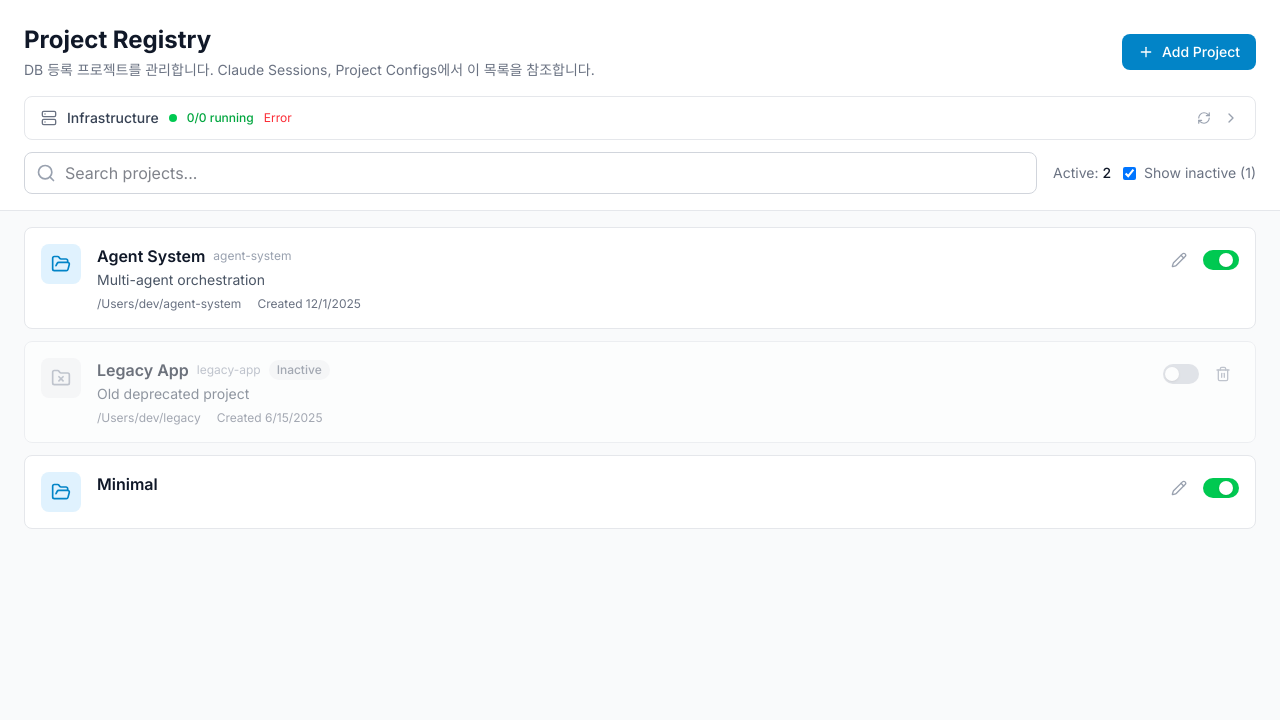
ProjectManagementPage › search filtering › filters by slug
This screenshot has width=1280, height=720.
Step 1. Type "agent-system" into the field with placeholder "Search projects..." → {"x": 531, "y": 173}, box [24,152,1037,194]
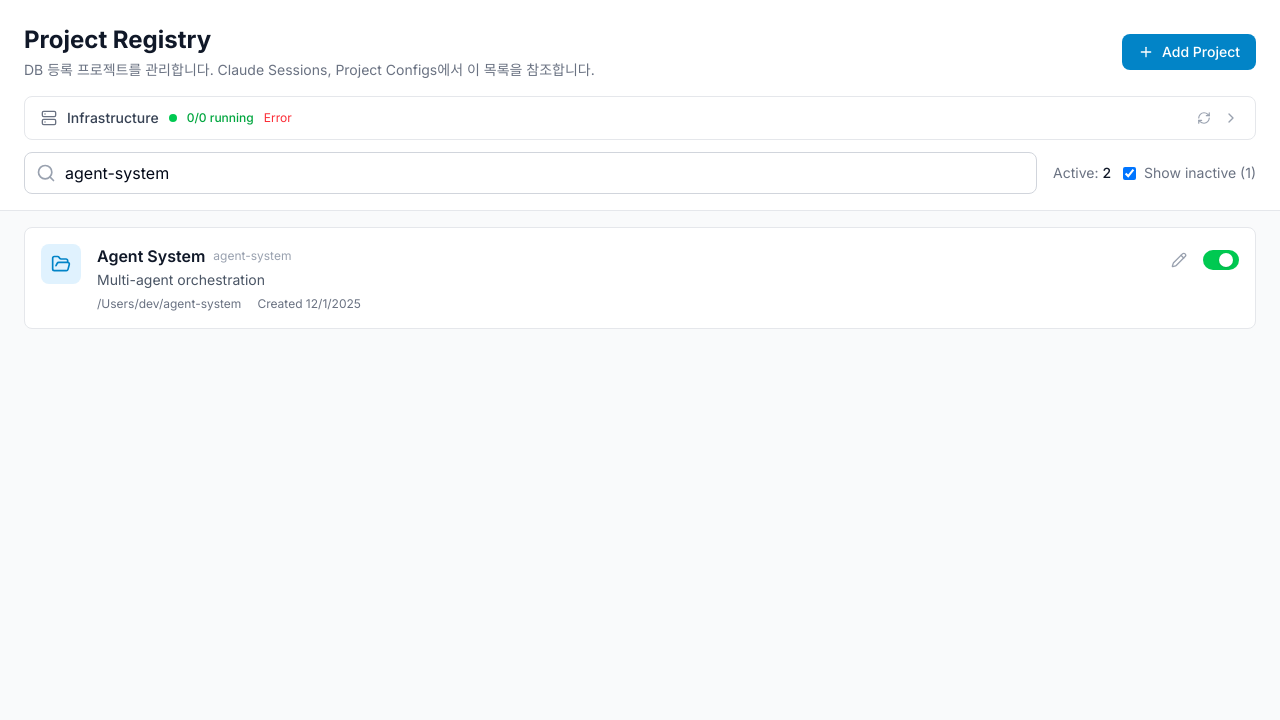
expect the heading "Agent System" is shown: met, box [97,244,205,268]
expect the heading "Legacy App" is gone: met
